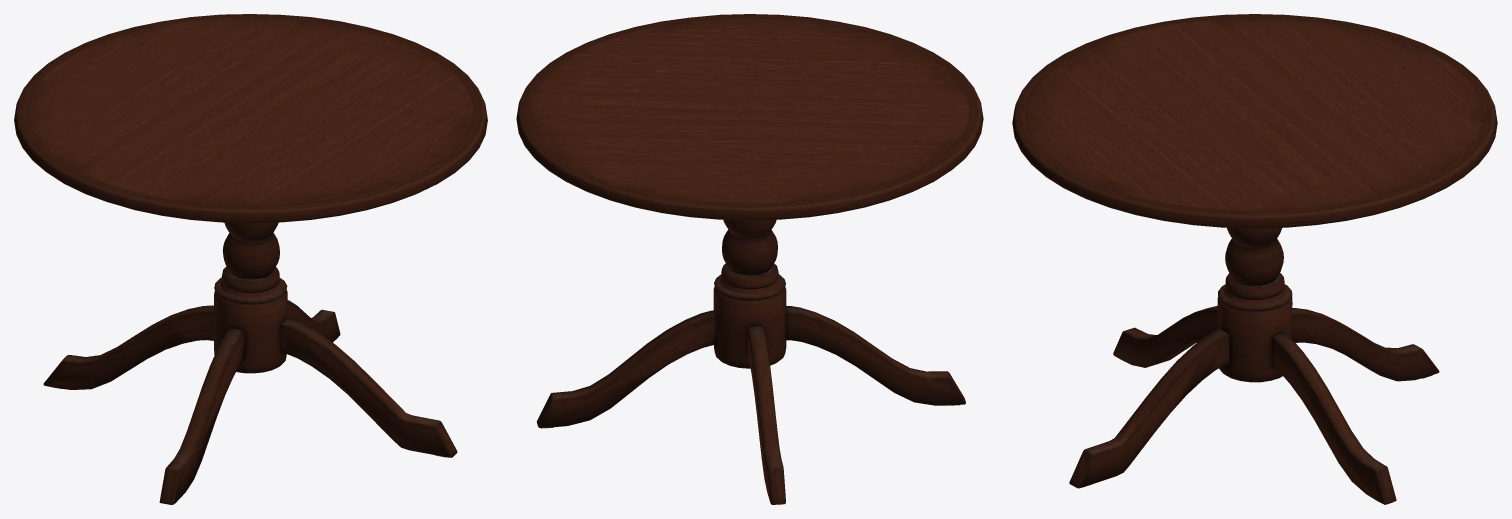
File: round_wooden_table_01.glb
3 views of the same model, side by side, from view 1: azimuth 30°, elevation 25°; view 2: azimuth 150°, elevation 25°; view 3: azimuth 270°, elevation 25° (orthographic). The views are drawn at different scales.
Visible parts, largest first — view 1: round_wooden_table_01; view 2: round_wooden_table_01; view 3: round_wooden_table_01.
Boxes of the visible parts, x1=… form: round_wooden_table_01: x1=14, y1=14, x2=487, y2=504; round_wooden_table_01: x1=516, y1=14, x2=983, y2=504; round_wooden_table_01: x1=1012, y1=14, x2=1497, y2=504.
Bounding box in the file's own units: 1.4 × 1.01 × 1.4.
Materials: 1 (1 with a texture image).
